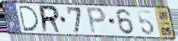5: (135, 9, 156, 36)
6: (115, 8, 135, 36)
7: (65, 6, 83, 35)
D: (17, 4, 41, 32)
P: (85, 6, 108, 36)
R: (38, 5, 63, 34)
